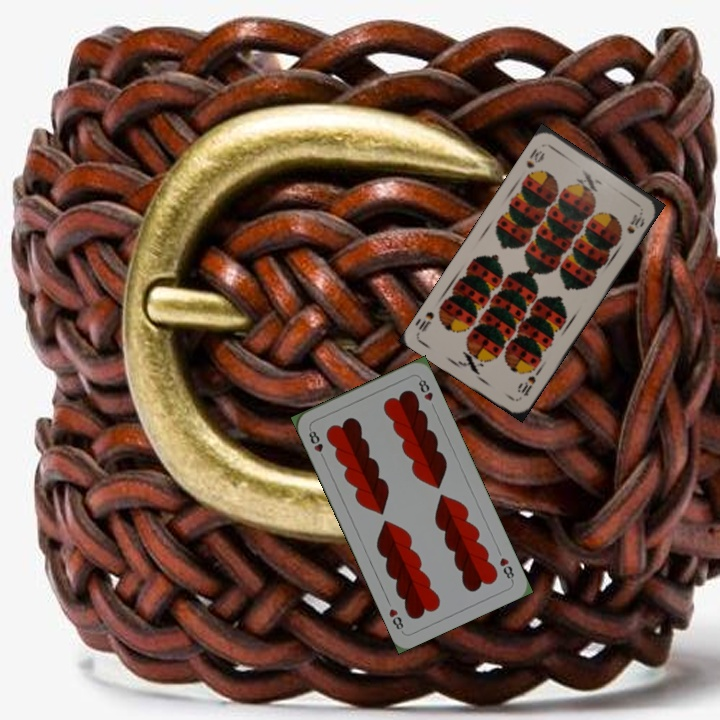H8: (304, 424, 328, 463), (495, 553, 517, 584)
S10: (522, 145, 547, 171), (514, 372, 538, 399)
